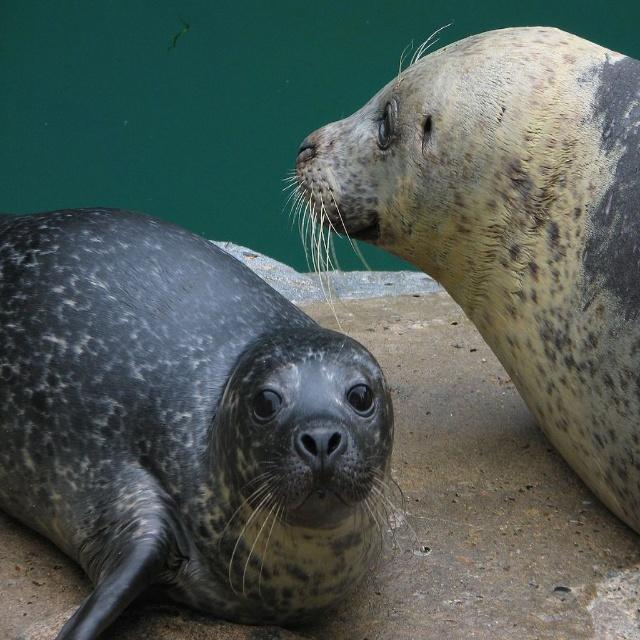Harbor seal: (278, 17, 640, 529), (1, 207, 419, 639)
